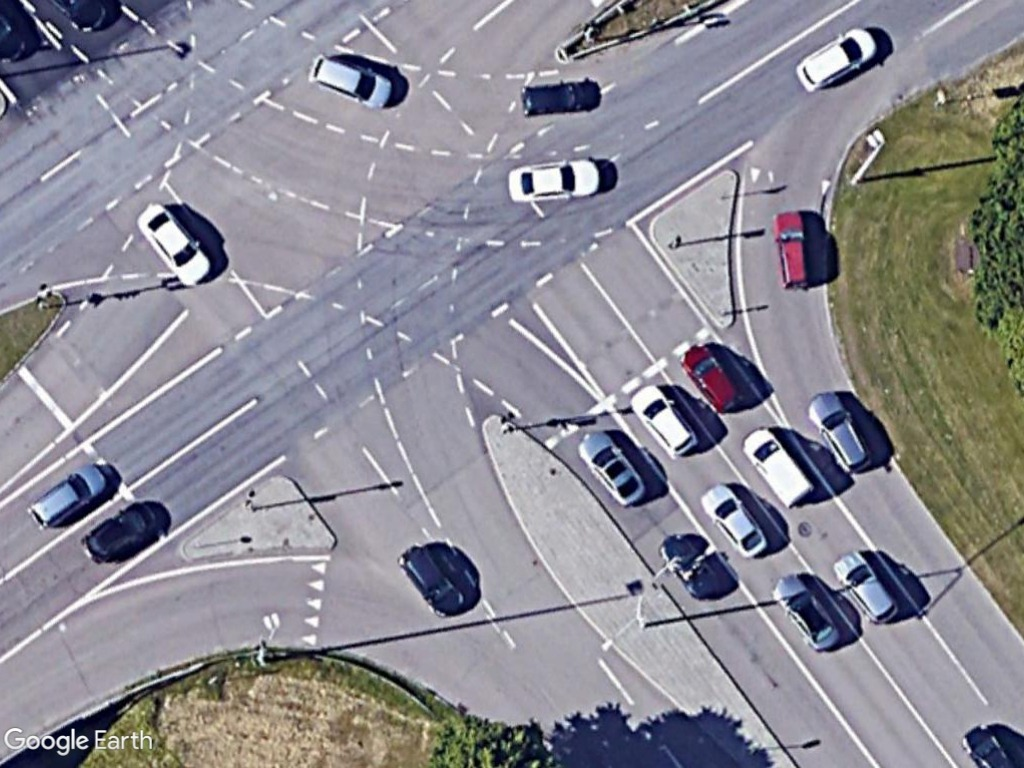car: (22, 457, 112, 535), (791, 24, 884, 96), (769, 572, 848, 655), (575, 426, 649, 514), (806, 385, 876, 478), (695, 477, 770, 562), (136, 204, 212, 287), (829, 546, 902, 628), (305, 50, 398, 114), (397, 541, 470, 621), (631, 379, 702, 458), (501, 154, 604, 207), (678, 339, 746, 418), (80, 499, 159, 566), (770, 206, 812, 294), (518, 75, 590, 120)
van: (739, 425, 817, 510)
